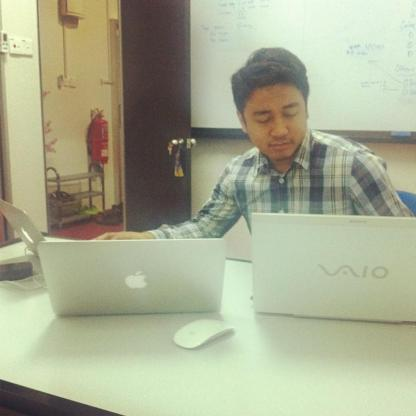board: (26, 224, 243, 330), (252, 214, 415, 324), (0, 200, 46, 259), (88, 108, 110, 164)
